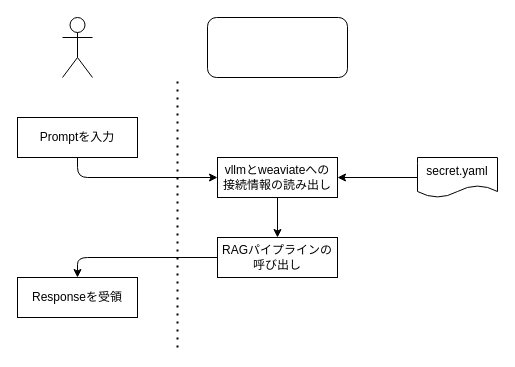
The diagram is 515 pixels wide and 367 high, and some of its shapes have lost their labels. Here are the shapes that lost their labels. From the top down, the centre of each, then its label:
the point at 77,47: Actor
the point at 277,47: backend
